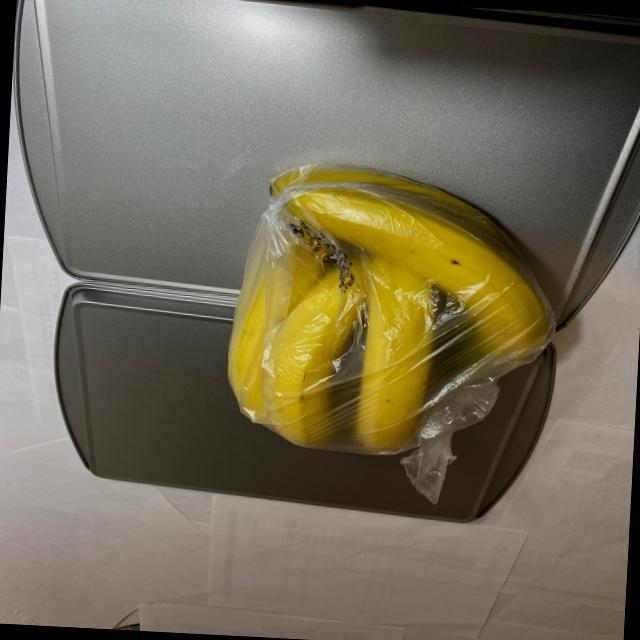banana: (221, 159, 566, 469)
